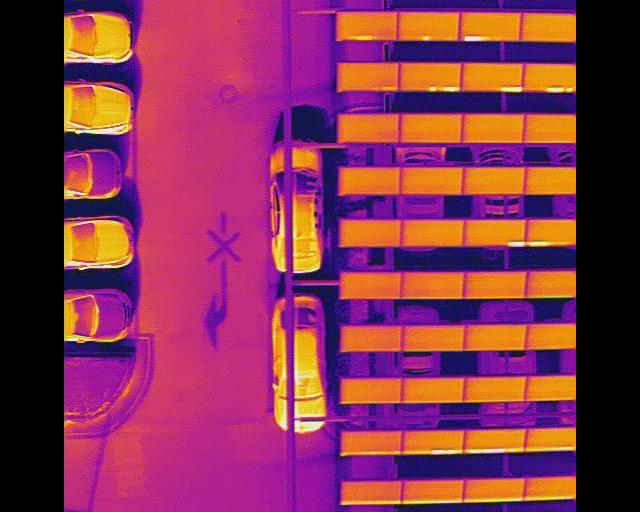Cell: (396, 11, 460, 41)
No-Anomaly: (337, 113, 399, 144), (399, 114, 462, 144), (336, 63, 401, 92), (463, 270, 528, 299), (400, 166, 464, 195), (400, 219, 466, 247), (400, 270, 466, 298), (337, 166, 400, 195), (462, 114, 525, 143), (339, 218, 402, 246), (400, 324, 465, 351), (340, 271, 402, 299), (463, 324, 526, 351), (520, 11, 576, 41), (464, 167, 526, 194), (402, 478, 465, 504), (339, 325, 402, 351), (463, 376, 526, 402), (340, 429, 403, 454), (339, 377, 402, 402), (464, 477, 527, 502), (401, 378, 465, 402), (341, 480, 404, 504), (524, 114, 576, 143), (525, 166, 576, 194), (525, 376, 576, 402), (527, 270, 576, 297), (527, 323, 576, 350), (524, 476, 576, 500), (526, 429, 576, 452)
Unclassified: (461, 61, 523, 91), (459, 12, 521, 42), (465, 219, 527, 248), (337, 12, 398, 41), (398, 62, 461, 90), (523, 63, 576, 92), (401, 430, 466, 453), (462, 429, 527, 452), (526, 218, 576, 246)
